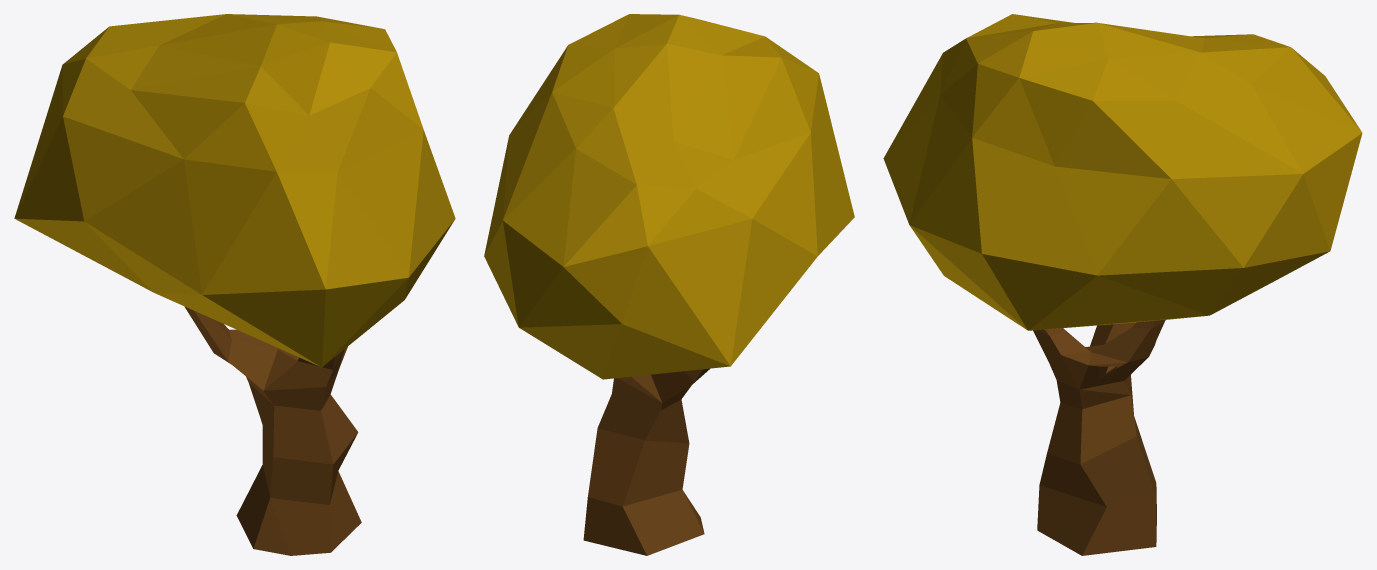
File: co_Tree06_B.fbx
The picture shows the model from 3 angles, left to right: view 1: azimuth 30°, elevation 25°; view 2: azimuth 150°, elevation 25°; view 3: azimuth 270°, elevation 25°; orthographic projection. The views are drawn at different scales.
Parts seen in each view (by area): view 1: Tree06_B_LOD0; view 2: Tree06_B_LOD0; view 3: Tree06_B_LOD0.
Boxes of the visible parts, bbox=[...] form: Tree06_B_LOD0: bbox=[14, 14, 455, 555]; Tree06_B_LOD0: bbox=[484, 14, 854, 555]; Tree06_B_LOD0: bbox=[883, 14, 1362, 555].
Size of what is drawn, in the model's own units: 10.07 by 15.27 by 13.3.
